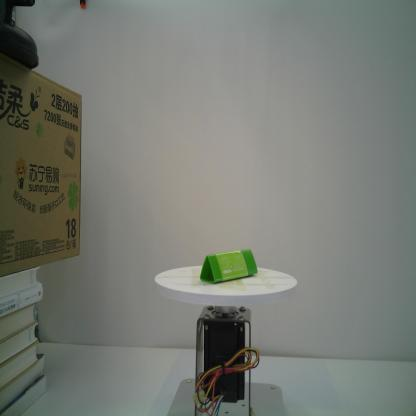Stationery: (200, 248, 258, 283)
